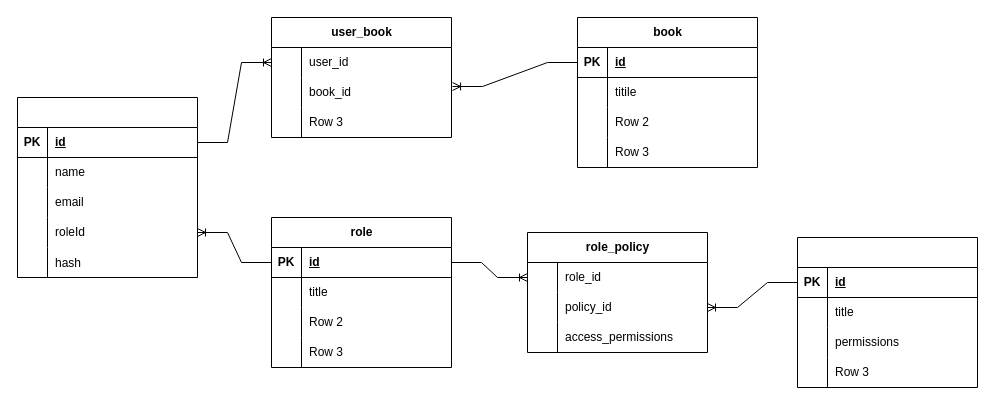
This 995x405 diagram has some shape labels left out. The shapes that lost their labels are listed below. From the top down, each one's box as (x1, y1, x2, y2) in pixels, then its label:
(16, 96, 198, 278): user
(796, 236, 978, 388): policy
